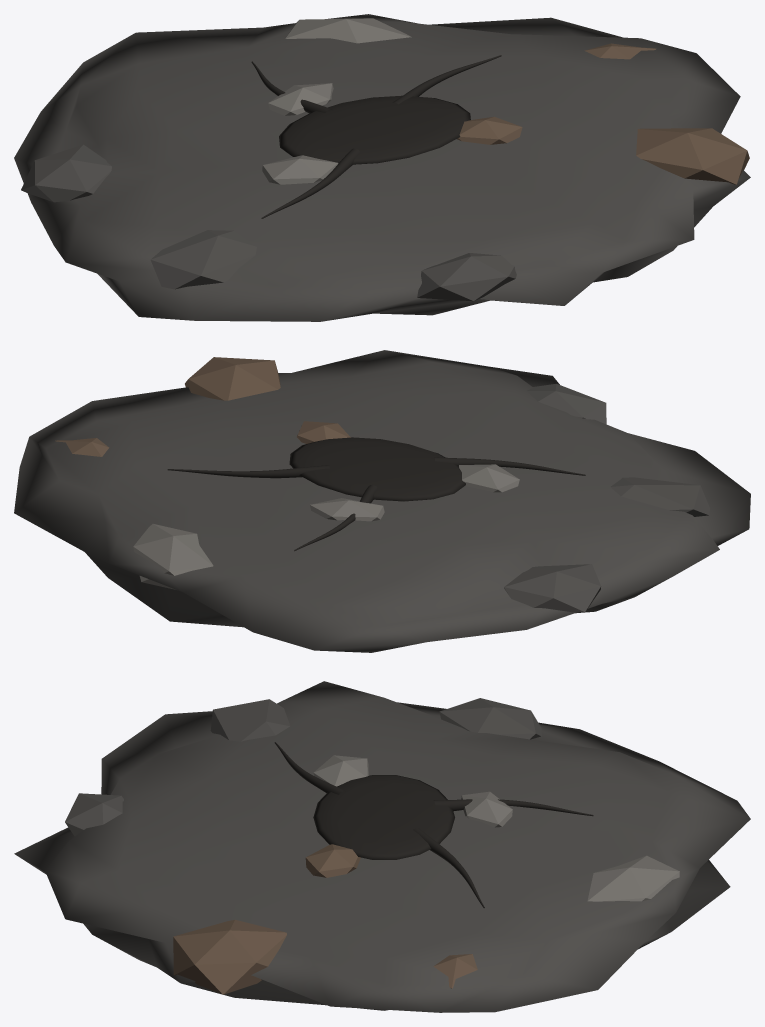
Rendered from fumarola.glb.
3 views of the same model, one above another, from view 1: azimuth 30°, elevation 25°; view 2: azimuth 150°, elevation 25°; view 3: azimuth 270°, elevation 25° (orthographic). The views are drawn at different scales.
Visible parts, largest first — view 1: Caverna | Fumarola | basalto frio, Caverna | Fumarola | interior, Caverna | Fumarola | pedra oxidada, Caverna | Fumarola | cinza; view 2: Caverna | Fumarola | basalto frio, Caverna | Fumarola | interior, Caverna | Fumarola | cinza, Caverna | Fumarola | pedra oxidada; view 3: Caverna | Fumarola | basalto frio, Caverna | Fumarola | interior, Caverna | Fumarola | pedra oxidada, Caverna | Fumarola | cinza.
Boxes of the visible parts, bbox=[...] form: Caverna | Fumarola | basalto frio: bbox=[14, 14, 750, 321]; Caverna | Fumarola | interior: bbox=[251, 55, 501, 218]; Caverna | Fumarola | pedra oxidada: bbox=[457, 43, 749, 184]; Caverna | Fumarola | cinza: bbox=[262, 18, 411, 184]; Caverna | Fumarola | basalto frio: bbox=[14, 350, 750, 652]; Caverna | Fumarola | interior: bbox=[167, 437, 585, 551]; Caverna | Fumarola | cinza: bbox=[133, 464, 519, 589]; Caverna | Fumarola | pedra oxidada: bbox=[55, 357, 350, 456]; Caverna | Fumarola | basalto frio: bbox=[14, 681, 750, 1012]; Caverna | Fumarola | interior: bbox=[274, 742, 593, 908]; Caverna | Fumarola | pedra oxidada: bbox=[173, 844, 477, 994]; Caverna | Fumarola | cinza: bbox=[313, 755, 679, 901].
Size of the model in its own units: 0.8571 by 0.1003 by 0.8107.
